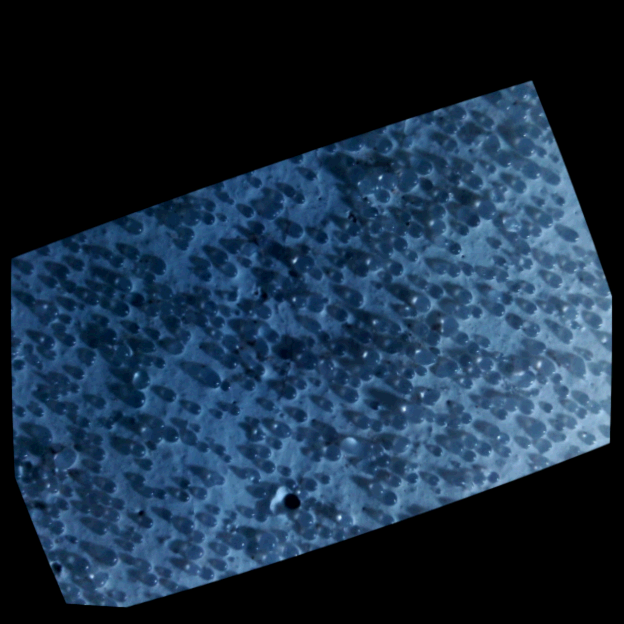GrassBeadSeg: (552, 335, 578, 366), (143, 84, 165, 115), (293, 311, 314, 340), (82, 171, 101, 200), (393, 574, 412, 602), (455, 252, 473, 280), (182, 0, 201, 26), (163, 77, 182, 103), (155, 335, 174, 361), (22, 95, 40, 122), (551, 519, 568, 547), (267, 162, 286, 186), (465, 282, 483, 307), (169, 398, 187, 423), (354, 31, 373, 54), (156, 20, 174, 44), (569, 289, 585, 316), (48, 103, 65, 128), (234, 243, 251, 267), (342, 406, 359, 430), (582, 519, 599, 543), (464, 508, 480, 533), (239, 493, 257, 515), (466, 555, 483, 578), (438, 97, 455, 120), (422, 560, 438, 584), (313, 111, 331, 132), (175, 286, 190, 311), (127, 76, 144, 98), (19, 40, 36, 62), (266, 106, 282, 129), (305, 469, 321, 492), (592, 447, 608, 470), (482, 362, 498, 385), (402, 90, 418, 113), (272, 356, 288, 379), (360, 246, 376, 269), (26, 138, 41, 162), (437, 207, 454, 228), (268, 573, 284, 595), (464, 202, 480, 224), (563, 66, 578, 89), (134, 298, 149, 321), (411, 14, 426, 37), (178, 346, 193, 369), (235, 457, 250, 480), (449, 136, 465, 157), (373, 28, 389, 49), (549, 470, 564, 492), (17, 410, 32, 432), (218, 406, 233, 428), (352, 560, 367, 582), (470, 170, 485, 192), (157, 170, 172, 192), (495, 44, 510, 66), (250, 363, 265, 385), (192, 184, 206, 207), (324, 354, 340, 374), (497, 194, 513, 214), (76, 9, 92, 29), (341, 109, 357, 129), (411, 225, 427, 245), (108, 337, 123, 358), (270, 391, 285, 412), (121, 132, 136, 153), (520, 580, 535, 601), (523, 350, 538, 371), (267, 438, 282, 459), (390, 294, 405, 315), (239, 343, 254, 364), (44, 289, 58, 311), (112, 504, 126, 526), (38, 381, 52, 403), (107, 546, 121, 568), (166, 546, 180, 568), (376, 605, 393, 623), (85, 128, 100, 148), (367, 276, 382, 296), (435, 294, 450, 314), (474, 584, 489, 604), (320, 217, 335, 237), (150, 362, 165, 382), (81, 419, 96, 439), (175, 528, 190, 548), (253, 261, 267, 282), (159, 275, 173, 296), (266, 313, 280, 334), (81, 387, 95, 408), (32, 224, 46, 245), (188, 219, 202, 240), (130, 153, 144, 174), (281, 264, 295, 285), (126, 492, 140, 513), (218, 456, 232, 477), (463, 600, 479, 618), (369, 458, 384, 477), (521, 556, 536, 575), (476, 105, 491, 124), (422, 155, 437, 174), (327, 101, 342, 120), (367, 183, 382, 202), (44, 325, 58, 345), (44, 157, 58, 177), (481, 391, 495, 411), (524, 408, 538, 428), (90, 30, 104, 50), (317, 585, 331, 605), (528, 18, 542, 38), (422, 55, 436, 75), (377, 254, 391, 274), (433, 130, 447, 150), (25, 568, 39, 588), (177, 183, 190, 204), (51, 418, 64, 439), (273, 49, 286, 70), (502, 485, 517, 503), (100, 187, 115, 205), (361, 114, 376, 132), (322, 395, 336, 414), (136, 254, 150, 273), (24, 312, 38, 331), (322, 259, 336, 278), (599, 150, 613, 169), (262, 509, 276, 528), (151, 526, 165, 545), (572, 604, 586, 623), (176, 101, 189, 121), (440, 465, 453, 485), (558, 594, 571, 614), (180, 592, 193, 612), (214, 138, 227, 158), (610, 468, 623, 488), (135, 177, 148, 197), (532, 458, 547, 475), (0, 393, 15, 410), (600, 311, 615, 328), (532, 148, 546, 166), (339, 594, 353, 612), (61, 597, 75, 615), (495, 414, 509, 432), (477, 44, 491, 62), (526, 293, 540, 311), (146, 243, 160, 261), (219, 302, 233, 320), (8, 344, 22, 362), (138, 202, 152, 220), (182, 77, 194, 98), (417, 330, 430, 349), (522, 440, 535, 459), (448, 593, 461, 612), (296, 395, 309, 414), (577, 20, 590, 39), (499, 102, 512, 121), (544, 258, 557, 277), (402, 212, 415, 231), (191, 531, 204, 550), (447, 359, 460, 378), (603, 273, 618, 289), (396, 608, 412, 623), (69, 206, 81, 226), (95, 368, 107, 388), (359, 322, 373, 339), (569, 166, 583, 183), (104, 278, 118, 295), (405, 136, 419, 153), (366, 57, 380, 74), (23, 72, 37, 89), (185, 329, 199, 346), (446, 173, 459, 191), (442, 515, 455, 533), (481, 482, 494, 500), (578, 414, 591, 432), (200, 585, 213, 603), (532, 266, 545, 284), (220, 205, 233, 223), (239, 309, 252, 327), (207, 464, 218, 485), (77, 353, 89, 372), (157, 399, 169, 418), (8, 462, 20, 481), (278, 552, 290, 571), (142, 324, 154, 343), (266, 489, 278, 508), (519, 101, 531, 120), (134, 442, 146, 461), (137, 416, 149, 435), (104, 463, 116, 482), (336, 509, 348, 528), (459, 536, 473, 552), (509, 57, 523, 73), (439, 61, 453, 77), (531, 217, 545, 233), (512, 157, 525, 174), (242, 554, 255, 571), (33, 491, 46, 508), (381, 199, 394, 216), (456, 334, 469, 351), (237, 372, 250, 389), (429, 194, 442, 211), (93, 289, 106, 306), (19, 497, 32, 514), (490, 437, 503, 454), (546, 233, 559, 250), (224, 570, 236, 588), (170, 210, 182, 228), (245, 202, 257, 220), (246, 133, 258, 151), (17, 525, 29, 543), (0, 367, 12, 385), (367, 209, 379, 227), (144, 544, 156, 562), (0, 523, 12, 541), (584, 564, 596, 582), (180, 149, 192, 167), (9, 8, 21, 26), (200, 441, 212, 459), (278, 608, 292, 623), (261, 44, 272, 63), (343, 42, 354, 61), (285, 68, 296, 87), (88, 103, 101, 119), (538, 71, 551, 87), (590, 425, 603, 441), (533, 312, 546, 328), (257, 454, 270, 470), (606, 252, 619, 268), (504, 272, 516, 289), (236, 32, 248, 49), (161, 436, 173, 453), (128, 220, 140, 237), (259, 551, 271, 568), (304, 55, 316, 72), (167, 600, 179, 617), (288, 14, 300, 31), (212, 389, 224, 406), (441, 570, 453, 587), (520, 328, 532, 345), (568, 396, 580, 413), (151, 479, 163, 496), (196, 480, 208, 497), (603, 564, 615, 581), (104, 111, 116, 128), (416, 105, 428, 122), (356, 199, 368, 216), (602, 589, 614, 606), (534, 428, 546, 445), (171, 164, 183, 181), (164, 145, 176, 162), (137, 29, 149, 46), (459, 462, 470, 480), (9, 164, 20, 182), (130, 331, 141, 349), (53, 41, 64, 59), (254, 61, 265, 79), (193, 120, 204, 138), (71, 232, 82, 250), (107, 580, 118, 598), (62, 549, 73, 567), (190, 375, 201, 393), (115, 196, 126, 214), (242, 0, 256, 14), (567, 254, 580, 269), (111, 83, 124, 98), (531, 373, 543, 389), (586, 188, 598, 204), (300, 86, 312, 102), (479, 447, 491, 463), (304, 204, 316, 220), (434, 242, 446, 258), (518, 507, 530, 523), (75, 480, 87, 496), (19, 381, 31, 397), (535, 171, 547, 187), (374, 72, 386, 88), (30, 369, 42, 385), (286, 222, 298, 238), (462, 356, 474, 372), (340, 135, 350, 154), (94, 520, 105, 537), (210, 313, 221, 330), (323, 0, 336, 14), (253, 421, 265, 436), (47, 237, 57, 255), (174, 491, 186, 506), (73, 505, 85, 520), (404, 523, 416, 538), (348, 366, 360, 381), (502, 580, 514, 595), (445, 232, 457, 247), (145, 385, 155, 403), (73, 322, 83, 340), (101, 438, 111, 456), (76, 560, 86, 578), (56, 528, 66, 546), (457, 229, 469, 244), (10, 81, 20, 99), (12, 265, 22, 283), (515, 215, 526, 231), (453, 443, 464, 459), (96, 328, 107, 344), (58, 234, 69, 250), (170, 260, 181, 276), (610, 495, 621, 511), (194, 147, 204, 164), (63, 260, 73, 277), (66, 283, 76, 300), (355, 428, 365, 445), (209, 202, 219, 219), (283, 334, 293, 351), (563, 42, 575, 56), (208, 0, 220, 14), (457, 105, 469, 119), (369, 160, 381, 174), (583, 477, 594, 492), (132, 384, 143, 399), (382, 355, 393, 370), (383, 313, 394, 328), (504, 310, 515, 325), (356, 476, 367, 491), (530, 517, 541, 532), (124, 261, 135, 276), (396, 459, 407, 474), (69, 536, 80, 551), (41, 601, 52, 616), (337, 28, 348, 43), (228, 177, 239, 192), (355, 498, 366, 513), (342, 536, 353, 551), (318, 438, 329, 453), (431, 378, 441, 394), (277, 518, 287, 534), (382, 577, 392, 593), (313, 348, 323, 364), (156, 0, 169, 12), (89, 237, 100, 251), (524, 236, 535, 250), (364, 134, 375, 148), (473, 148, 484, 162), (238, 185, 249, 199), (89, 475, 100, 489), (177, 474, 188, 488), (347, 303, 356, 320), (319, 292, 328, 309), (387, 472, 396, 489), (251, 534, 260, 551), (369, 435, 378, 452), (323, 510, 333, 525), (88, 559, 98, 574), (348, 522, 358, 537), (413, 581, 423, 596), (302, 442, 312, 457), (329, 608, 339, 623), (355, 591, 365, 606), (227, 146, 236, 162), (201, 392, 210, 408), (38, 463, 47, 479), (508, 2, 517, 18), (477, 15, 486, 31), (183, 554, 192, 570), (127, 564, 136, 580), (140, 505, 149, 521), (187, 491, 196, 507), (368, 406, 377, 422), (382, 430, 391, 446), (322, 135, 333, 148), (347, 179, 358, 192), (12, 204, 22, 218), (212, 527, 221, 542), (394, 2, 403, 17), (148, 568, 157, 583), (407, 187, 416, 202), (410, 163, 419, 178), (396, 156, 405, 171), (503, 606, 513, 619), (33, 195, 42, 209), (399, 176, 408, 190), (86, 314, 95, 328), (62, 459, 71, 473), (47, 554, 56, 568), (435, 501, 444, 515), (423, 396, 432, 410), (150, 426, 159, 440), (406, 427, 416, 439), (313, 608, 323, 620), (517, 136, 525, 151), (448, 44, 456, 59), (601, 128, 609, 143), (576, 144, 584, 159), (468, 4, 476, 19), (349, 16, 357, 31), (400, 354, 409, 367), (420, 520, 429, 533), (581, 588, 590, 601), (546, 421, 555, 434), (420, 458, 429, 471), (368, 384, 377, 397), (409, 409, 418, 422), (386, 497, 395, 510), (323, 470, 332, 483), (13, 118, 22, 131), (588, 353, 597, 366), (509, 124, 517, 138), (201, 232, 209, 246), (459, 39, 467, 53), (587, 244, 595, 258), (600, 35, 608, 49), (570, 114, 578, 128), (61, 367, 69, 381), (62, 398, 70, 412), (584, 384, 592, 398), (595, 227, 603, 241), (559, 234, 567, 248), (424, 362, 432, 376), (24, 593, 33, 605), (536, 235, 544, 248), (559, 434, 567, 447), (604, 437, 612, 450), (568, 367, 576, 380), (265, 376, 273, 389), (545, 396, 553, 409), (65, 218, 72, 232), (212, 240, 220, 252), (300, 356, 307, 369), (43, 407, 50, 420), (278, 289, 285, 302), (226, 592, 233, 604), (204, 89, 211, 101), (149, 132, 156, 144), (207, 162, 214, 174), (110, 9, 117, 21), (0, 77, 7, 89), (68, 118, 75, 130), (3, 136, 10, 148), (310, 189, 317, 201), (296, 193, 303, 205), (292, 291, 299, 303), (305, 147, 312, 159), (22, 228, 29, 240), (92, 268, 99, 280), (15, 318, 22, 330), (207, 333, 214, 344), (197, 34, 204, 45), (3, 53, 10, 64), (343, 250, 350, 261), (336, 213, 343, 224), (303, 294, 310, 305), (267, 146, 274, 157), (264, 193, 271, 204), (182, 373, 189, 384), (58, 87, 64, 99), (283, 187, 289, 199), (374, 231, 380, 243), (332, 54, 338, 65), (589, 169, 595, 180), (555, 174, 561, 184), (351, 547, 357, 557), (328, 323, 334, 333), (566, 133, 571, 144), (492, 114, 497, 124), (91, 580, 96, 590), (110, 491, 115, 501), (200, 562, 205, 572), (339, 548, 344, 558), (439, 591, 444, 601), (523, 490, 528, 500), (102, 491, 107, 501), (129, 468, 134, 478), (52, 491, 57, 501), (538, 51, 544, 59), (544, 33, 549, 42), (597, 93, 602, 102), (97, 73, 102, 82), (566, 557, 571, 566), (344, 389, 349, 397), (342, 295, 347, 303), (320, 34, 324, 43), (352, 322, 356, 331), (378, 8, 382, 16), (483, 320, 487, 328), (191, 303, 195, 311), (8, 319, 12, 326), (11, 305, 15, 312), (84, 279, 88, 286), (77, 292, 81, 299), (91, 284, 95, 291), (266, 237, 270, 244), (71, 175, 75, 182), (43, 133, 47, 140)
